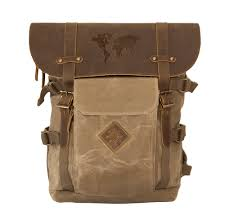backpack: (28, 21, 201, 203)
